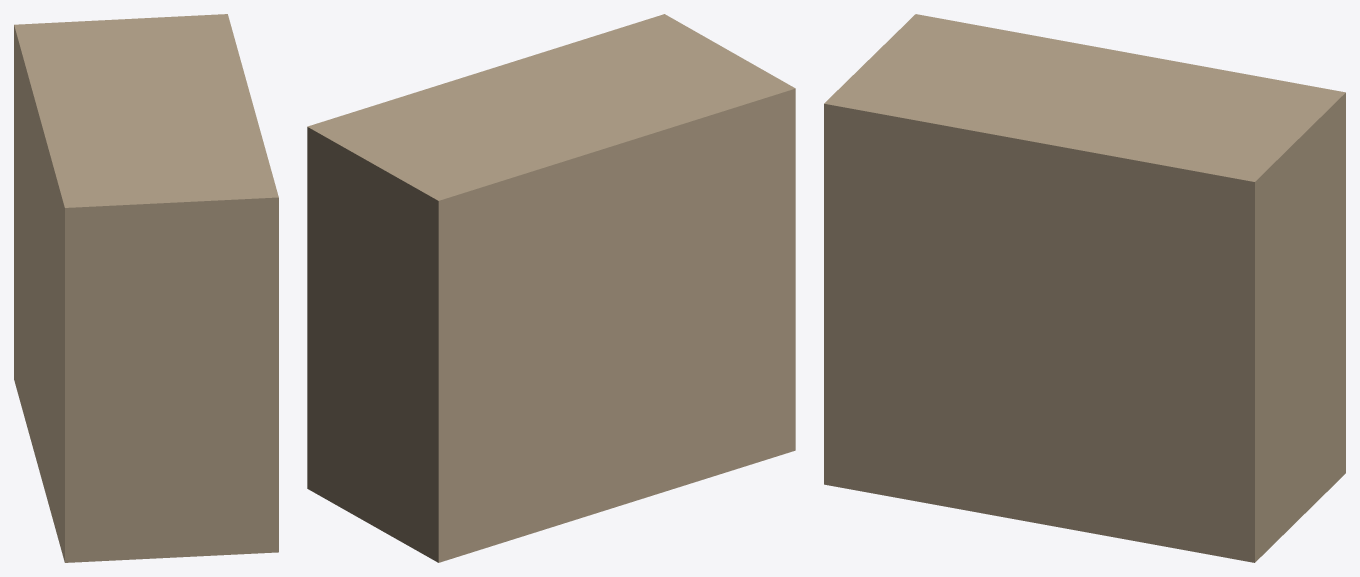
File: bld_99020498.dae
3 renders of one model, left to right at view 1: azimuth 30°, elevation 25°; view 2: azimuth 150°, elevation 25°; view 3: azimuth 270°, elevation 25°, orthographic. The views are drawn at different scales.
Visible parts, largest first — view 1: bld_99020498; view 2: bld_99020498; view 3: bld_99020498.
Part boxes in pixels (x1,y1,x2,y2): bld_99020498: (14,14,278,562); bld_99020498: (307,14,795,562); bld_99020498: (824,14,1345,562).
Size of the model in its own units: 7.57 by 9.94 by 8.
